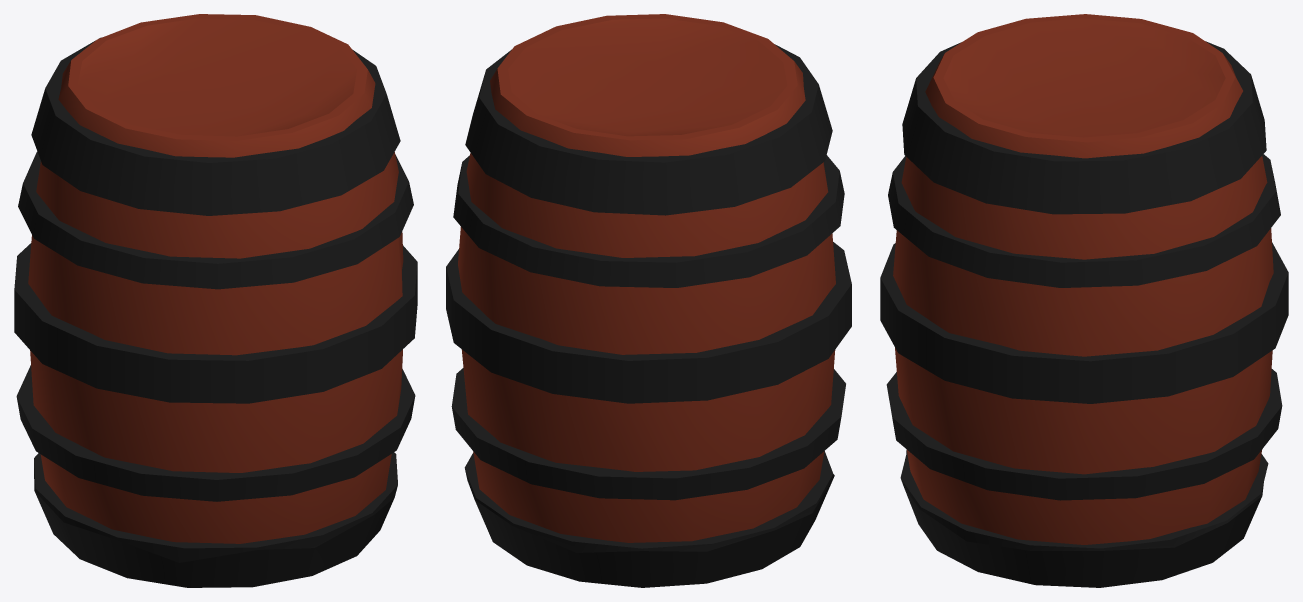
File: Low_Env_Barrel.fbx
3 views of the same model, side by side, from view 1: azimuth 30°, elevation 25°; view 2: azimuth 150°, elevation 25°; view 3: azimuth 270°, elevation 25° (orthographic).
Parts seen in each view (by area): view 1: Low_Env_Barrel; view 2: Low_Env_Barrel; view 3: Low_Env_Barrel.
Part boxes in pixels (x1,y1,x2,y2): Low_Env_Barrel: (14, 14, 417, 587); Low_Env_Barrel: (446, 14, 851, 587); Low_Env_Barrel: (880, 14, 1288, 587).
Bounding box in the file's own units: 2.64 × 3.17 × 2.64.
